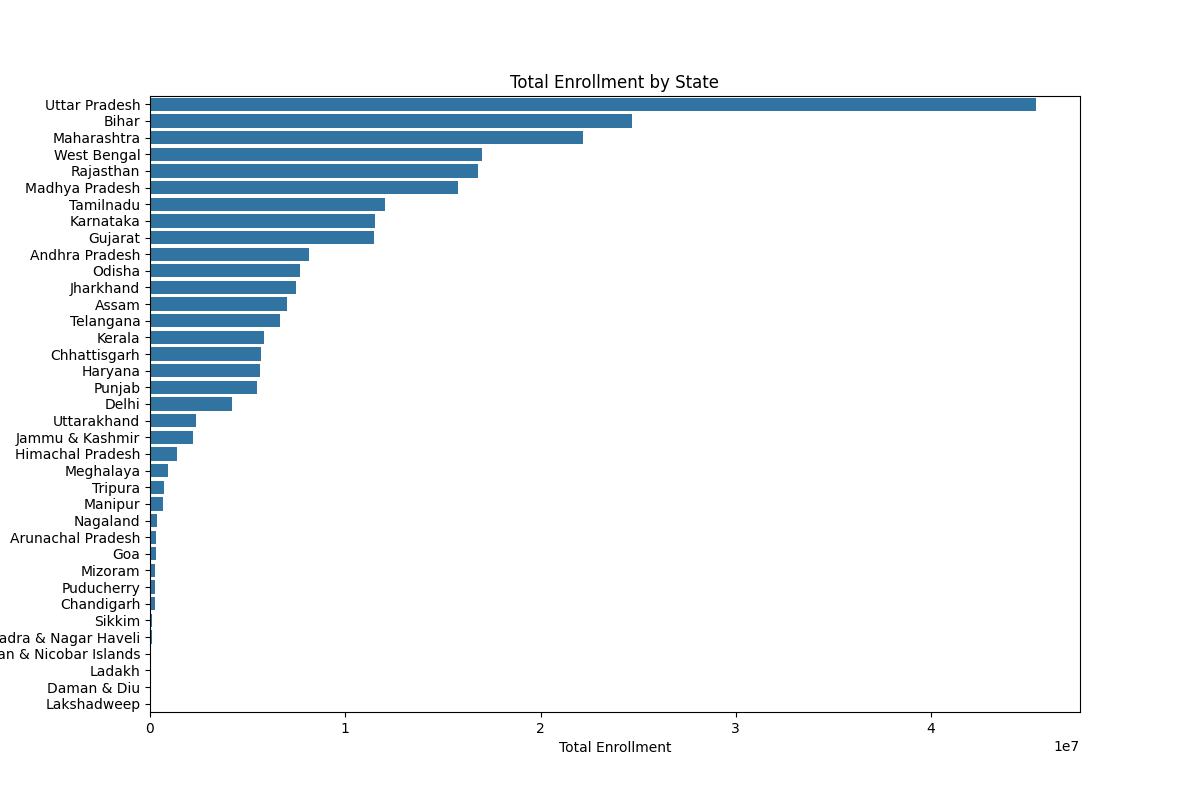

What the dashboard file says about the page in this screenshot:
{"tool":"tableau","page":{"name":"Dashboard 1","canvas":[1000,1000],"units":"permille","ordinal":0},"visuals":[{"type":"worksheet","title":"Sheet 2","mark":"Bar","rows":["count"],"cols":["date","date"],"box":[1.8,480.7,991,499.4]}]}

Visuals, with their boxes on the dashboard's canvas, which has no fixed pixel size, in thousandths of its width and height (x1, y1, x2, y2). These are canvas units, not pixel positions in the 1200x800 screenshot, which may show the page scaled, cropped or inside an application window:
"Sheet 2" worksheet (Bar marks): [x1=2, y1=481, x2=993, y2=980]
